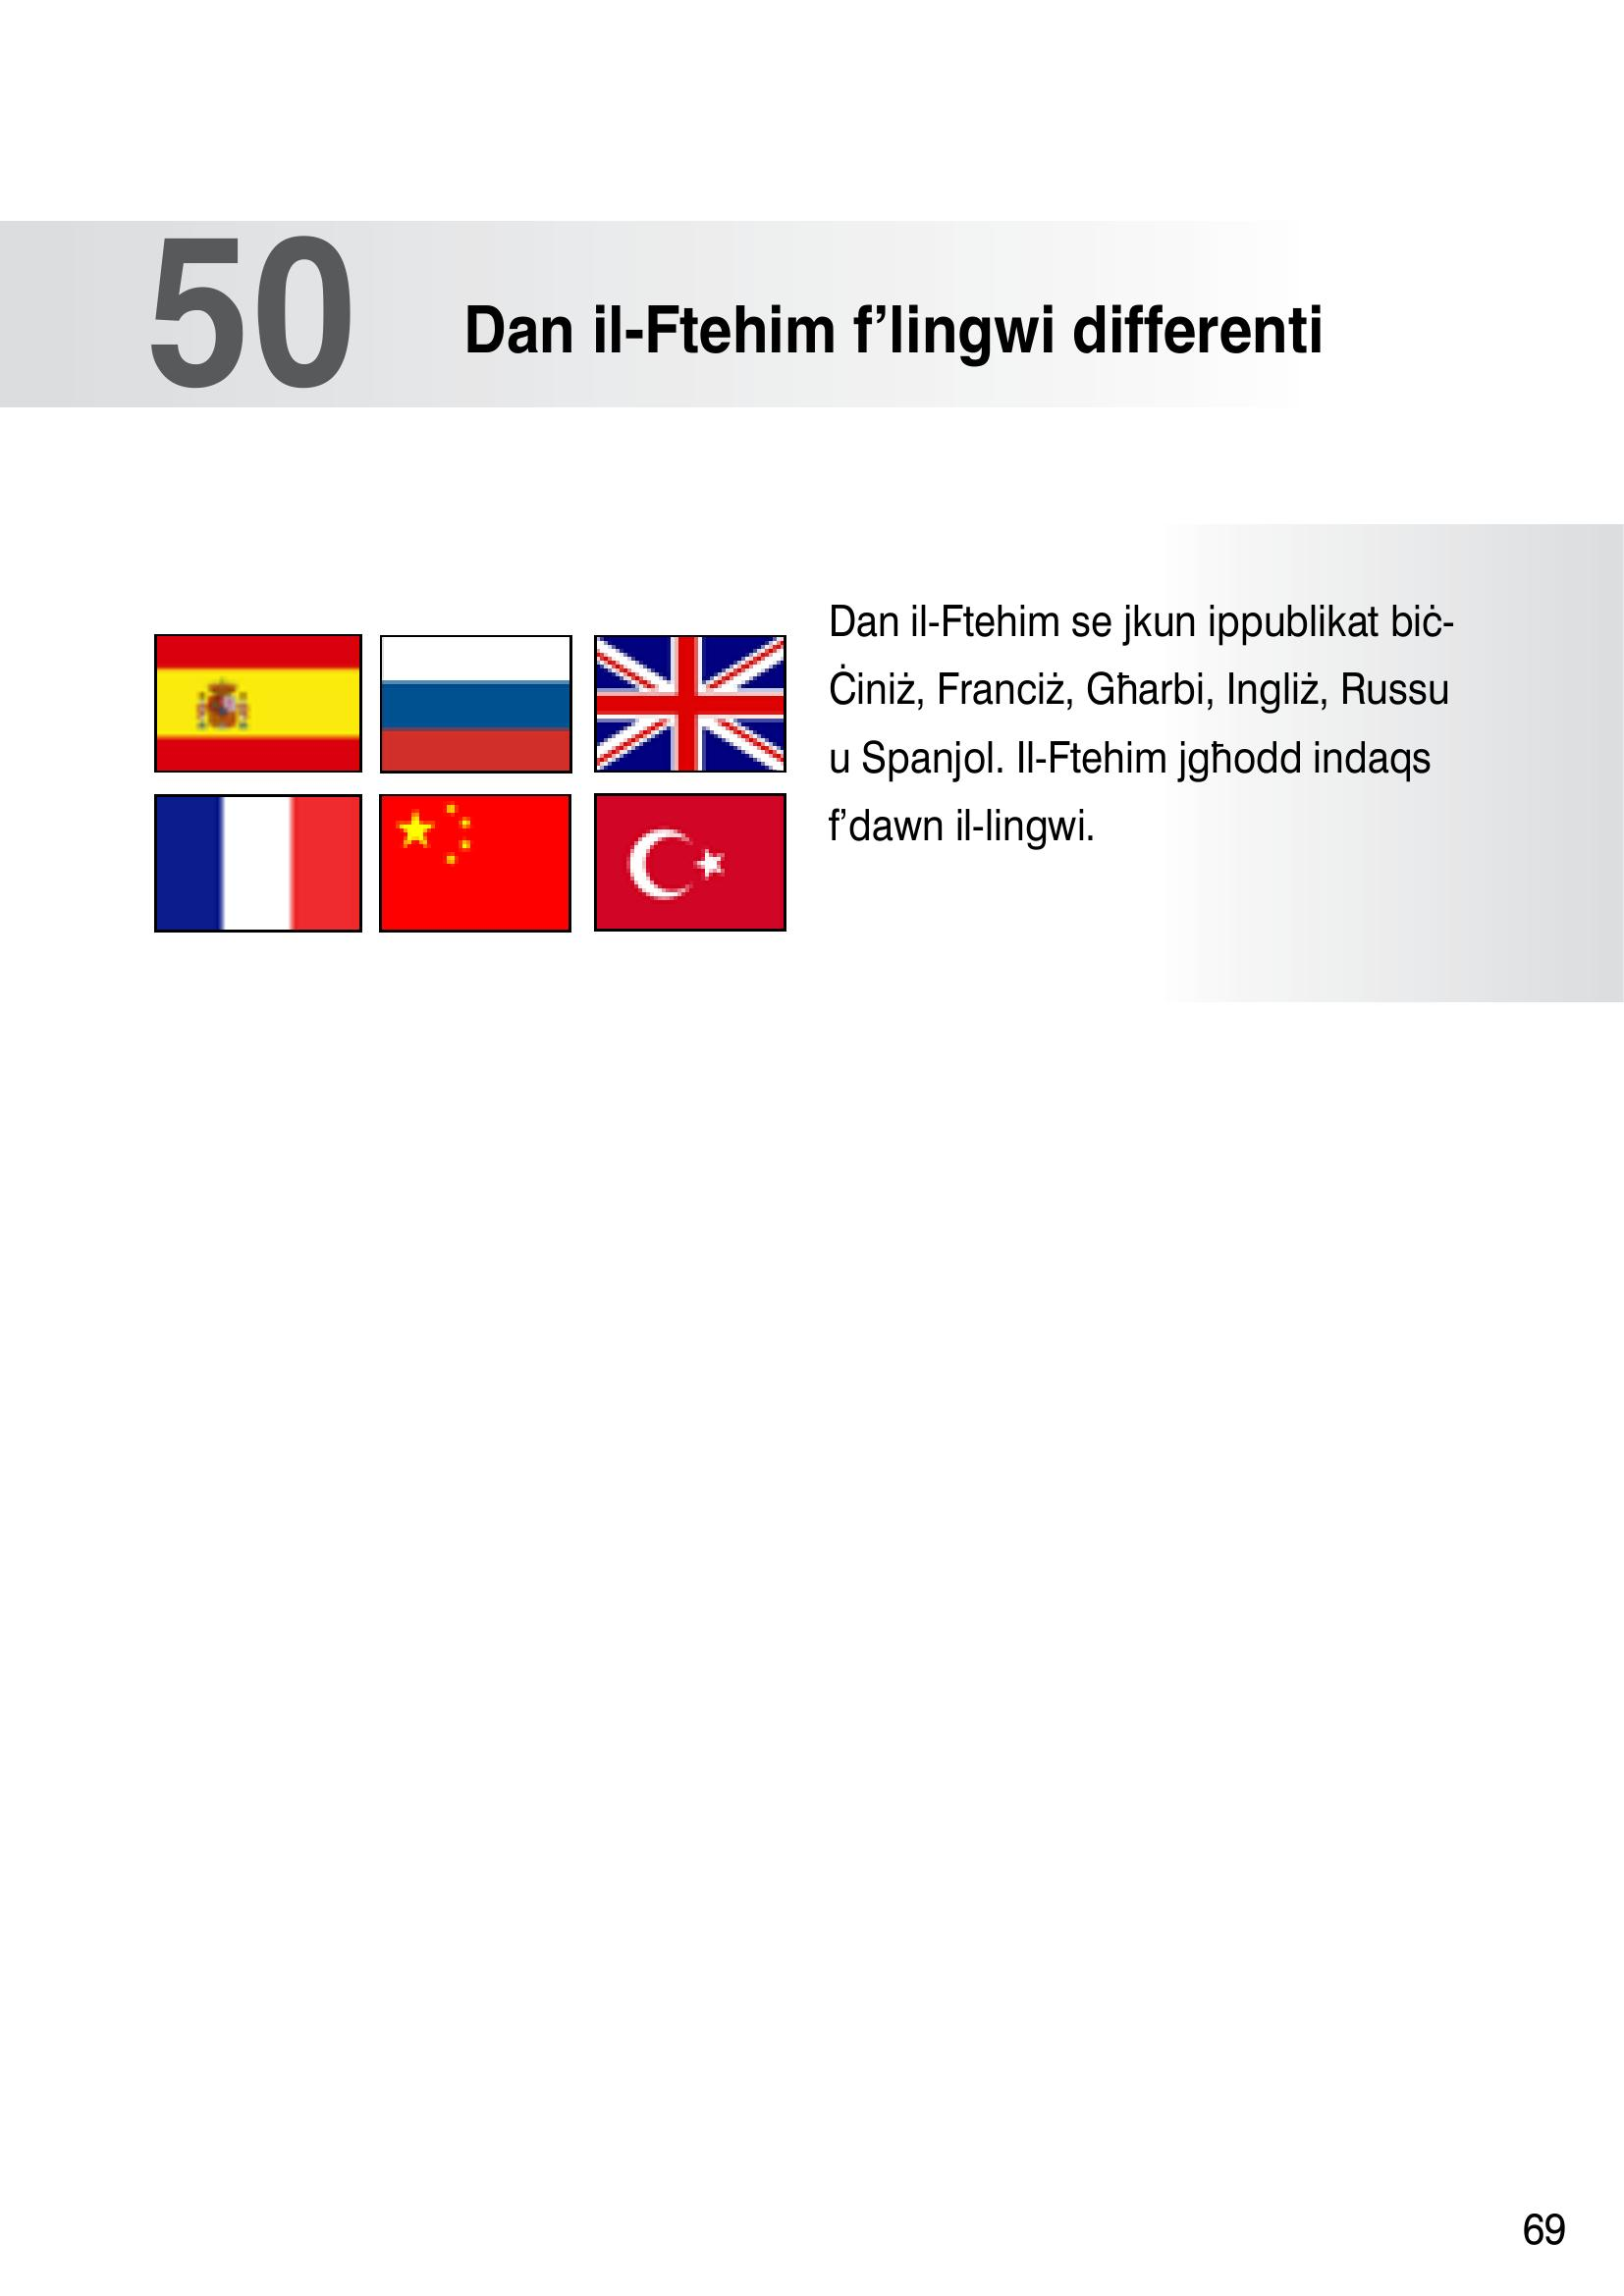text: (120, 223, 1336, 413), (808, 576, 1483, 873)
